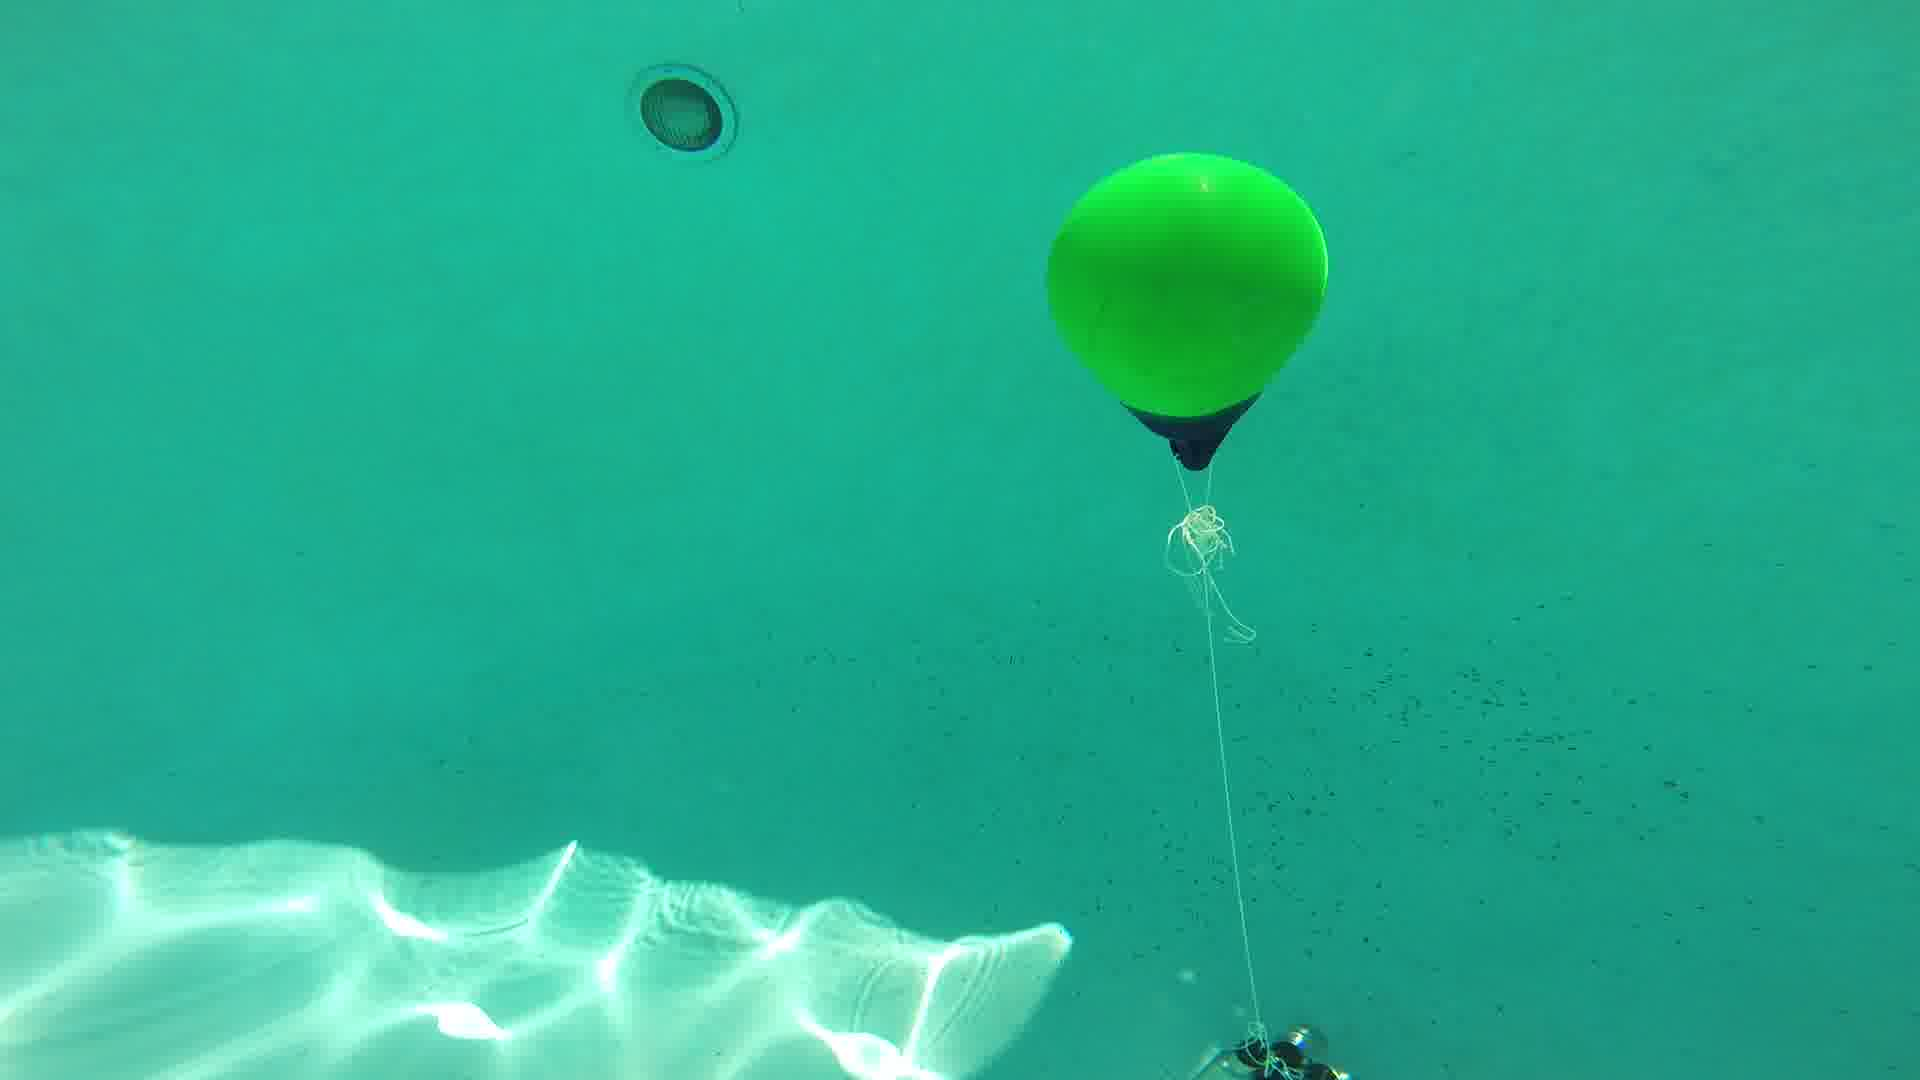yellow_buoy: (1046, 150, 1331, 475)
